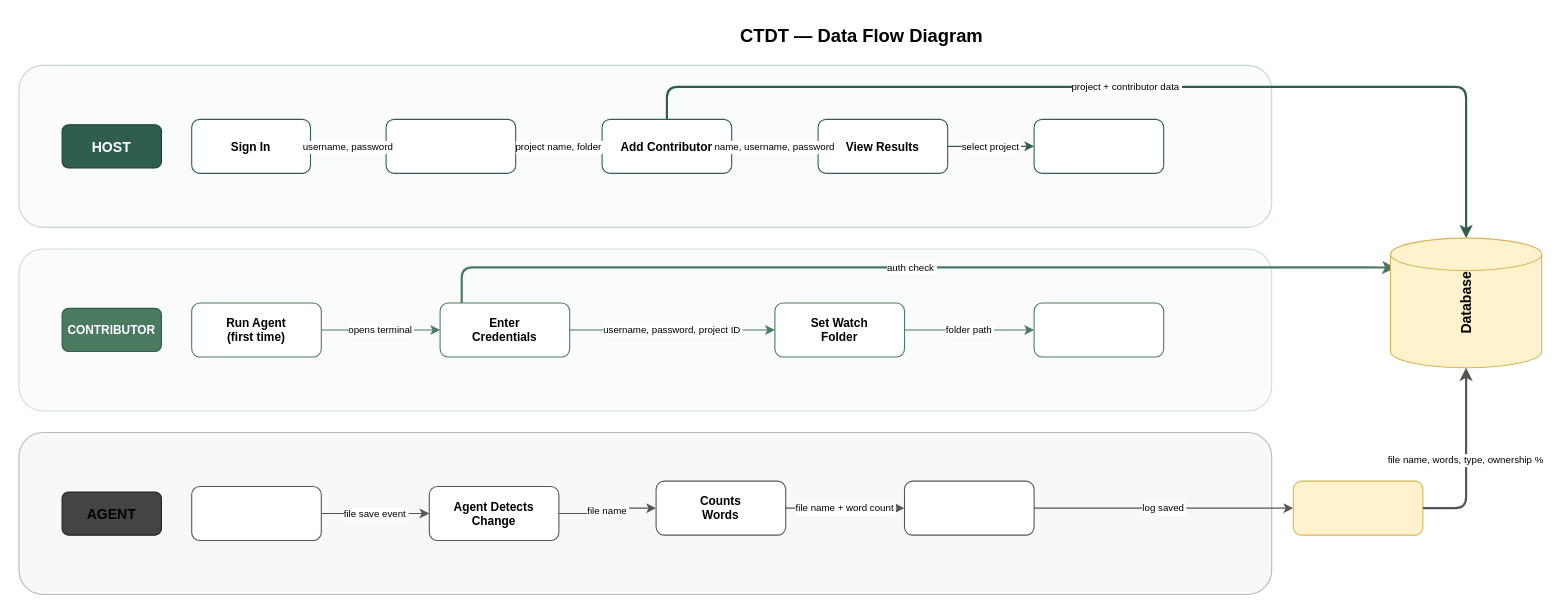
Some shapes in this 1564 by 613 pixel diagram are drawn without their labels. Each missing label, with the centre of its shape:
Auto Recalculate: the point at 1357,507
Contributor Saves File: the point at 256,513
Create Project: the point at 450,145
Sends Log to Backend: the point at 968,507
Start Working: the point at 1098,329
View Analytics: the point at 1098,145
